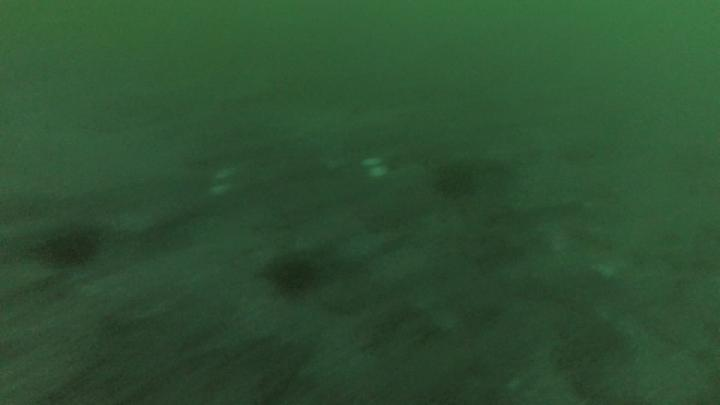echinus: (43, 223, 94, 273), (267, 253, 322, 298), (433, 159, 478, 202)
